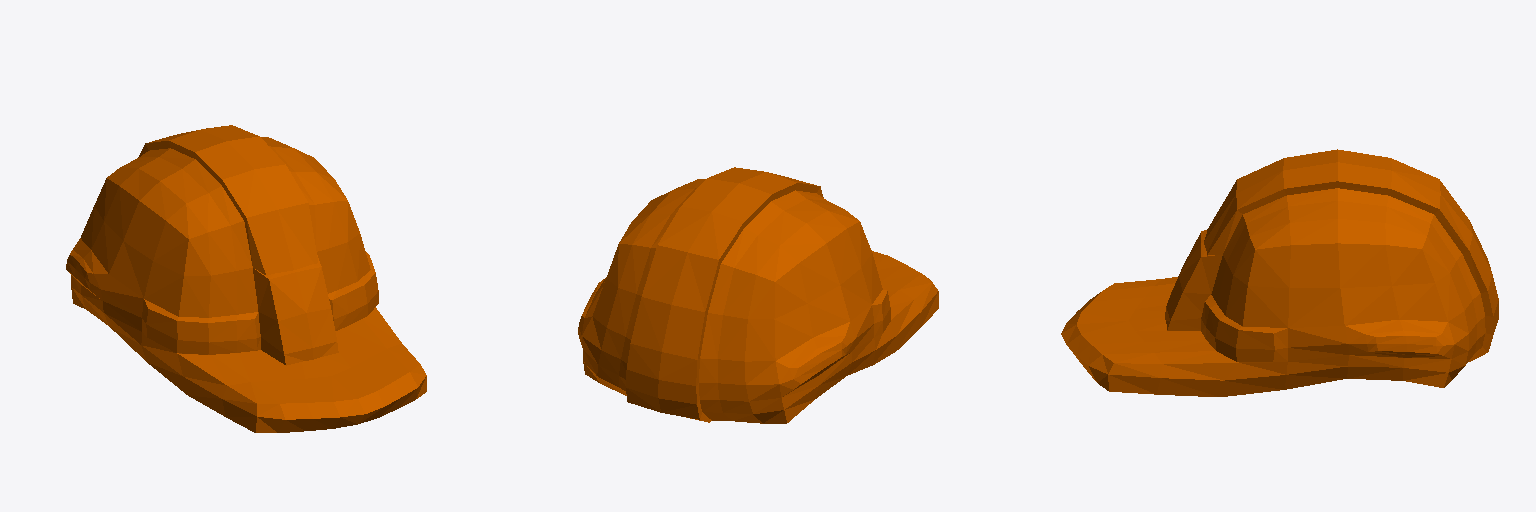
Rendered from helmet.obj.
3 views of the same model, side by side, from view 1: azimuth 30°, elevation 25°; view 2: azimuth 150°, elevation 25°; view 3: azimuth 270°, elevation 25° (orthographic).
Parts seen in each view (by area): view 1: hard_hat.011_helmet; view 2: hard_hat.011_helmet; view 3: hard_hat.011_helmet.
Boxes of the visible parts, box(x1,y1,x2,y2) form: hard_hat.011_helmet: box(66, 125, 426, 432); hard_hat.011_helmet: box(578, 167, 938, 423); hard_hat.011_helmet: box(1061, 149, 1498, 396).
Bounding box in the file's own units: 34.89 × 25.34 × 53.67.